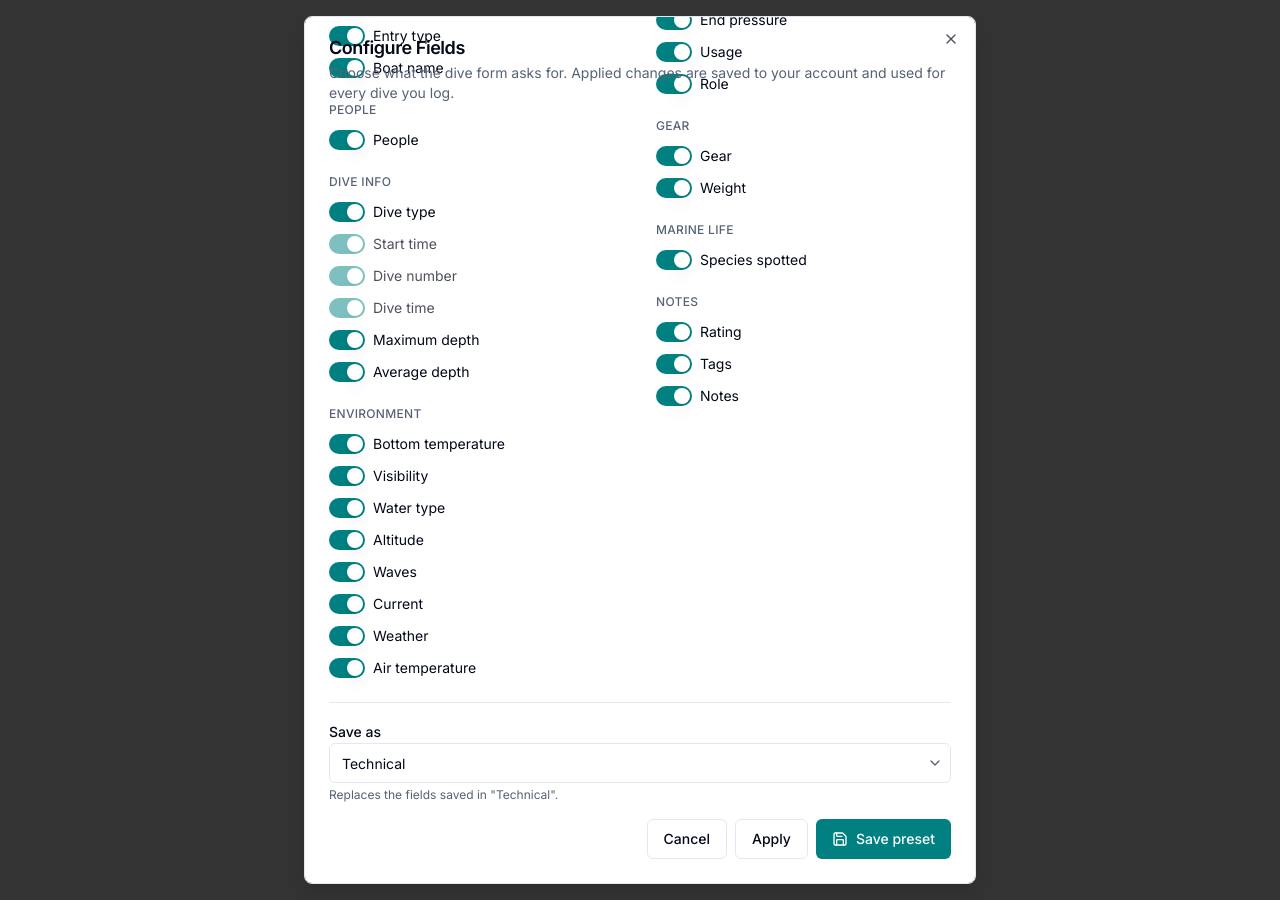
DiveFormFieldsDialog › walks the list with the arrow keys, stopping at its ends
(page scrolled)
Click the dropdown labelled "Save as" at (640, 763), box [329,743,951,783]
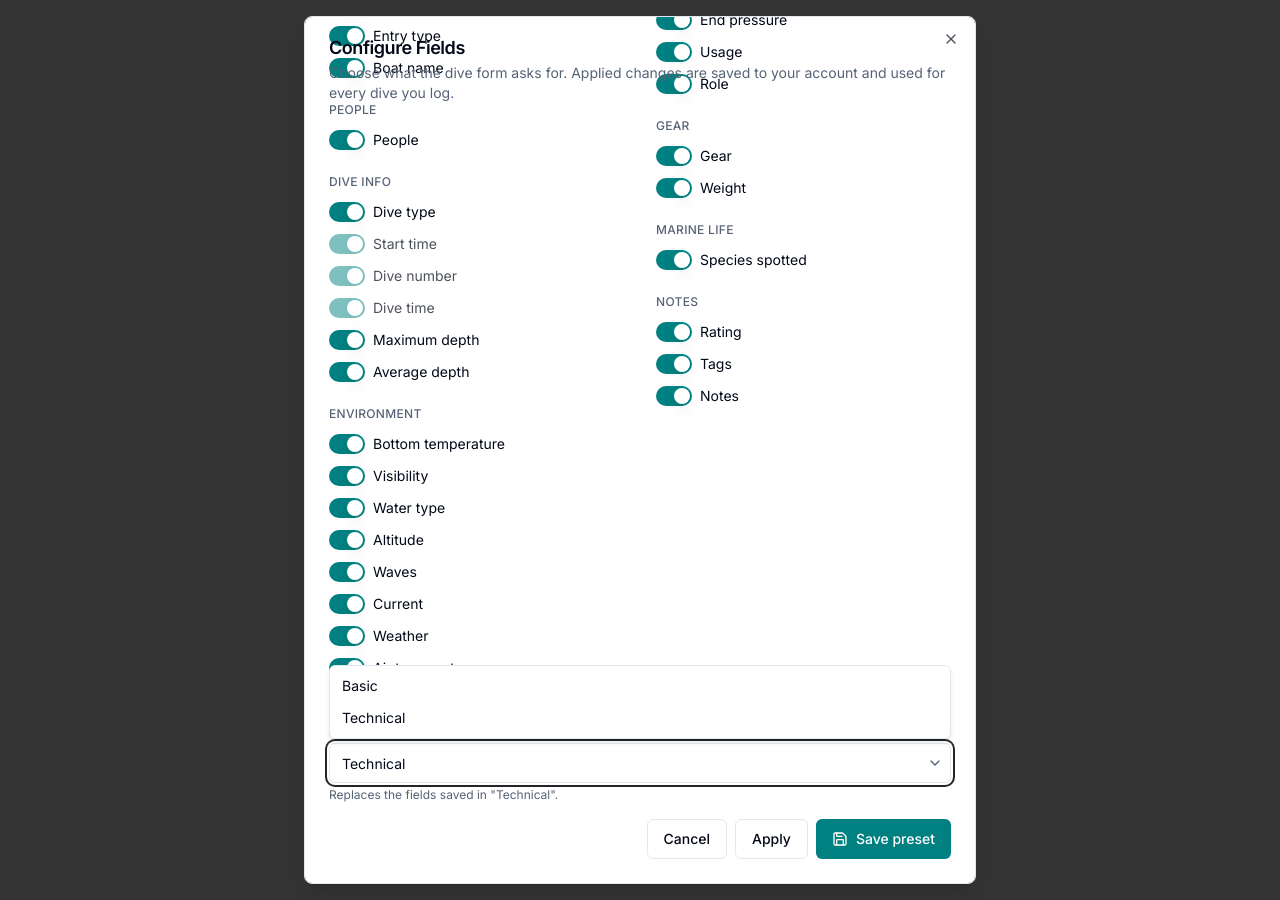
Press Arrowup
expect the option "Technical" is shown: met, box [334,702,946,734]
Press Arrowdown
expect the option "Technical" is shown: met, box [334,702,946,734]
Press Arrowup Arrowup
expect the option "Basic" is shown: met, box [334,670,946,702]
Press Enter
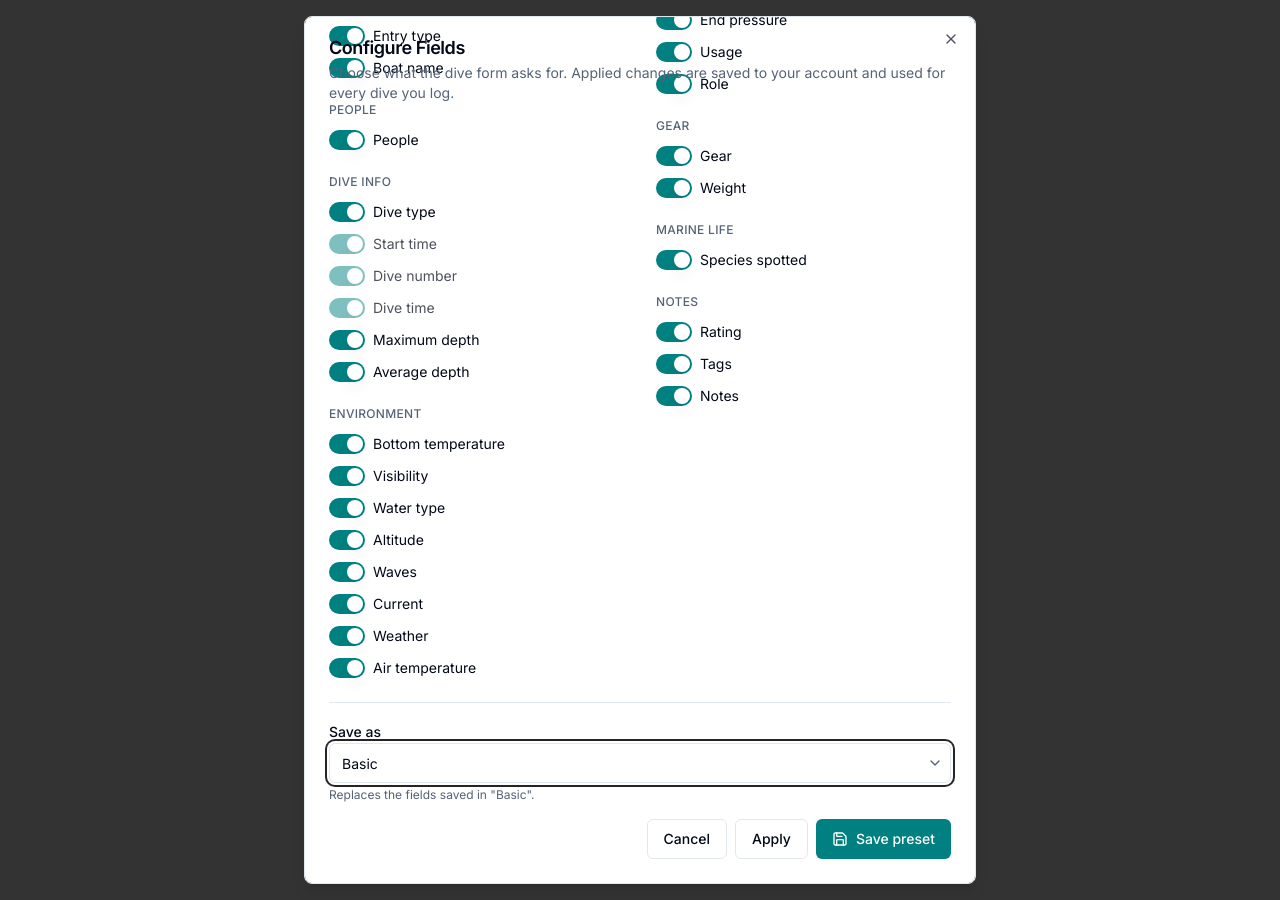
expect the dropdown labelled "Save as" holds "Basic": met, box [329,743,951,783]
expect the option is gone: met
